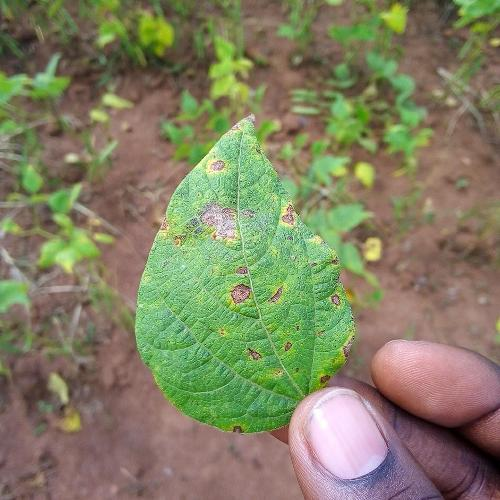hawar: (294, 252, 358, 376), (162, 190, 264, 260), (240, 336, 294, 372), (224, 267, 260, 318), (262, 277, 295, 316), (279, 198, 307, 236), (205, 156, 236, 176), (220, 419, 243, 439)
